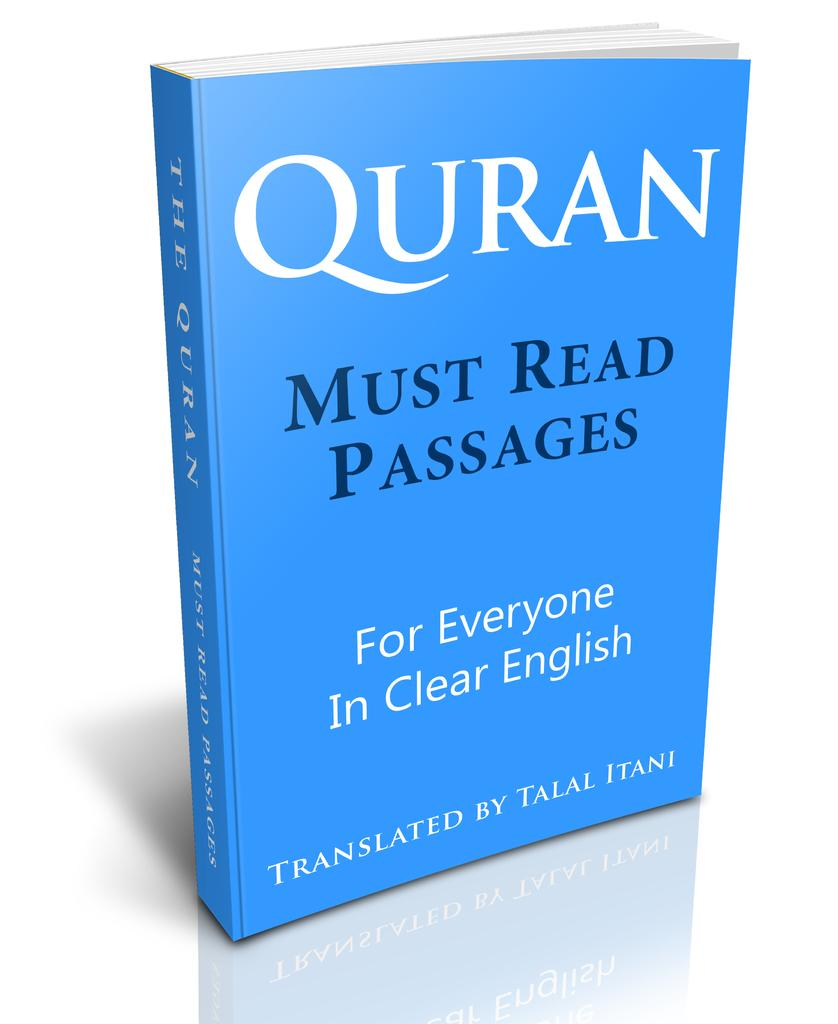book: (154, 0, 783, 1002)
